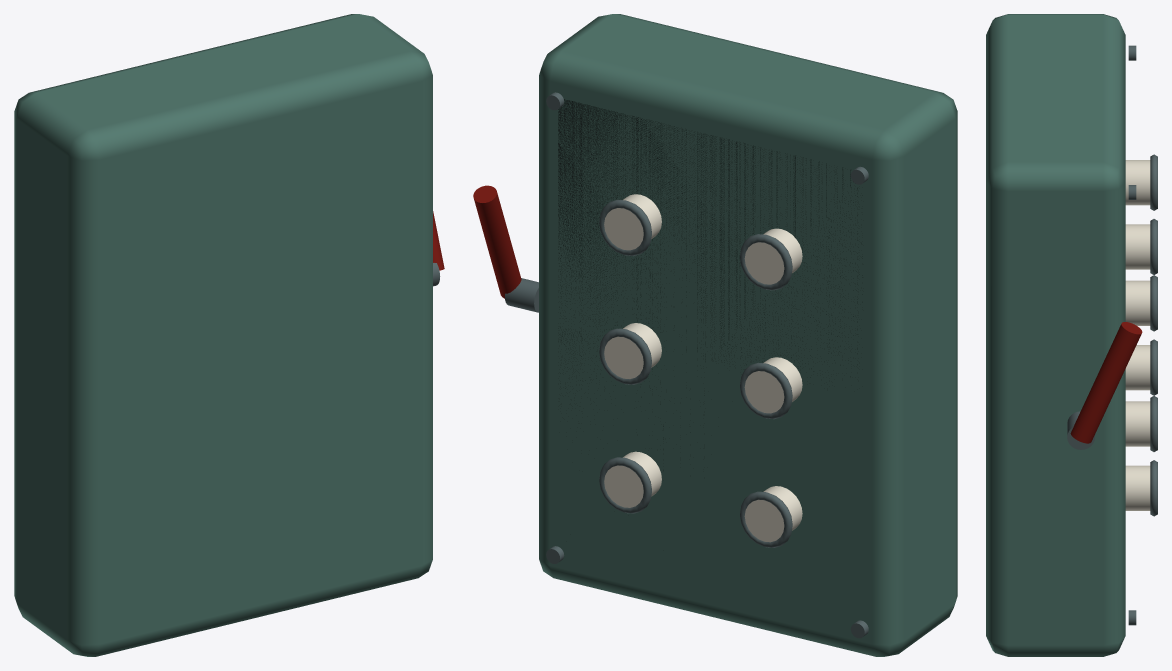
Rendered from FuseBox.obj.
3 views of the same model, side by side, from view 1: azimuth 30°, elevation 25°; view 2: azimuth 150°, elevation 25°; view 3: azimuth 270°, elevation 25° (orthographic). The views are drawn at different scales.
Parts seen in each view (by area): view 1: FuseBox; view 2: FuseBox; view 3: FuseBox.
Boxes of the visible parts, x1,y1,x2,y2 form: FuseBox: [14, 14, 444, 656]; FuseBox: [473, 14, 957, 656]; FuseBox: [986, 14, 1157, 656].
Bounding box in the file's own units: 0.708 × 0.86 × 0.2711.
